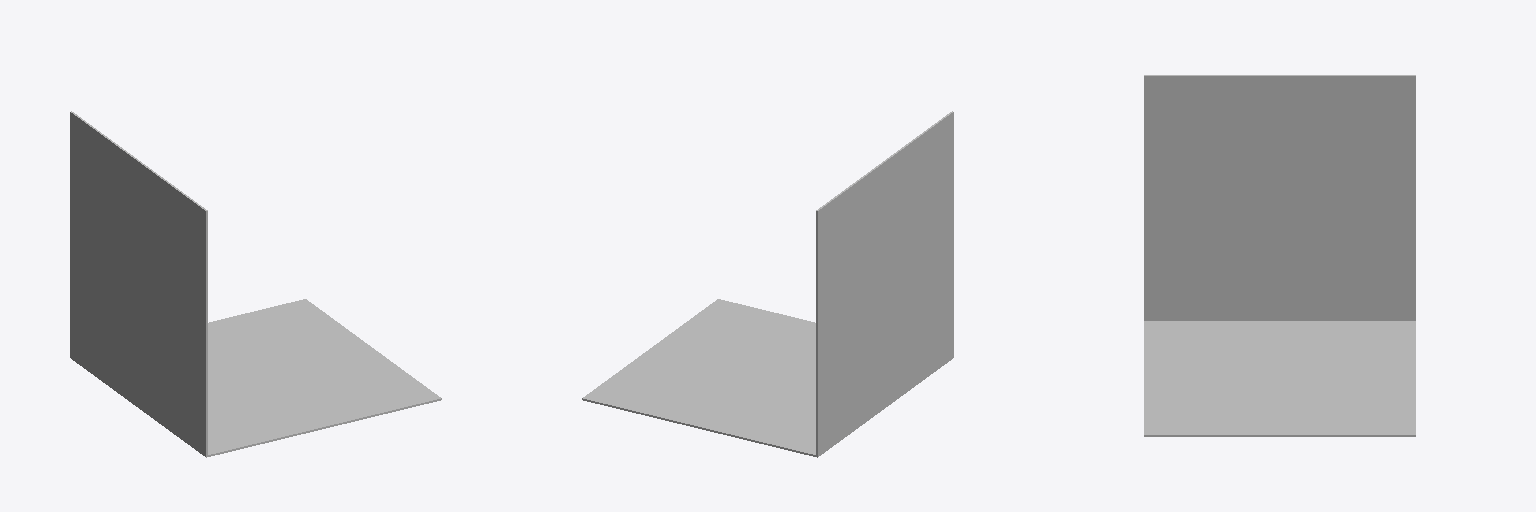
File: Estrutura base melhorada com o dobro-0.obj
3 views of the same model, side by side, from view 1: azimuth 30°, elevation 25°; view 2: azimuth 150°, elevation 25°; view 3: azimuth 270°, elevation 25° (orthographic).
Parts seen in each view (by area): view 1: object 1; view 2: object 1; view 3: object 1.
Boxes of the visible parts, <box> form: object 1: <box>70,111,441,457</box>; object 1: <box>582,111,953,457</box>; object 1: <box>1144,75,1415,436</box>.
Size of the model in its own units: 12.6 by 12.6 by 12.6.